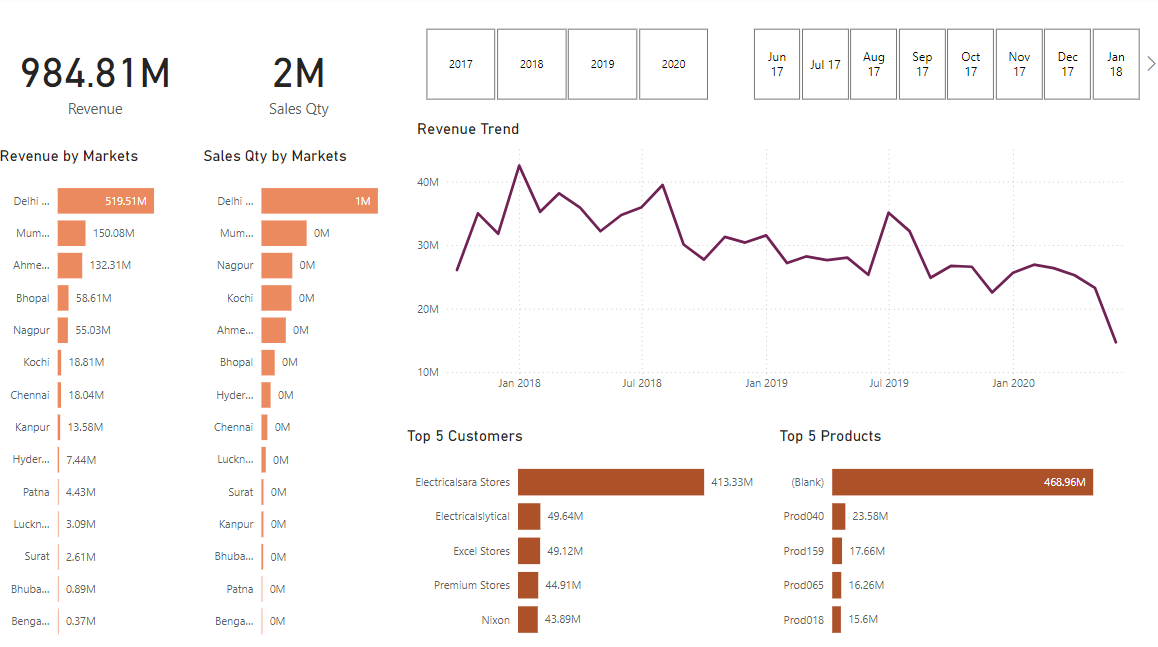

This screenshot's page, from the dashboard's own definition file:
{"tool":"powerbi","page":{"name":"Page 1","canvas":[1280,720],"ordinal":0},"visuals":[{"type":"card","fields":{"Values":["BaseMeasures.Revenue"]},"box":[0,0,220,180],"z":0},{"type":"card","fields":{"Values":["BaseMeasures.Sales Qty"]},"box":[223.7,0,220,180],"z":1000},{"type":"barChart","title":"Revenue by Markets","fields":{"Y":["BaseMeasures.Revenue"],"Category":["sales markets.markets_name"]},"box":[0,164.7,223.7,555.7],"z":2000},{"type":"barChart","title":"Sales Qty by Markets","fields":{"Y":["BaseMeasures.Sales Qty"],"Category":["sales markets.markets_name"]},"box":[223.7,164.7,223.7,555.7],"z":2001},{"type":"slicer","fields":{"Values":["sales date.year"]},"box":[447.3,28.8,359.5,91.9],"z":2002},{"type":"slicer","fields":{"Values":["sales date.cy_date"]},"box":[806.9,28.8,473.4,91.9],"z":2003},{"type":"barChart","title":"Top 5 Customers","fields":{"Y":["BaseMeasures.Revenue"],"Category":["sales customers.custmer_name"]},"box":[447.3,472,396.6,248.4],"z":2004},{"type":"barChart","title":"Top 5 Products","fields":{"Y":["BaseMeasures.Revenue"],"Category":["sales products.product_code"]},"box":[856.3,472,403.4,248.4],"z":2005},{"type":"lineChart","title":"Revenue Trend","fields":{"Y":["BaseMeasures.Revenue"],"Category":["sales date.cy_date.Variation.Date Hierarchy.Year","sales date.cy_date.Variation.Date Hierarchy.Month"]},"box":[458.3,135.8,801.4,307.4],"z":2006}]}

Visuals, with their boxes in screenshot pixels (x1, y1, x2, y2), scaled from the page's 1280x720 canvas onto the 1158x647 screenshot:
card - BaseMeasures.Revenue: [0,0,199,162]
card - BaseMeasures.Sales Qty: [202,0,401,162]
"Revenue by Markets" barChart: [0,148,202,646]
"Sales Qty by Markets" barChart: [202,148,405,646]
slicer - sales date.year: [405,26,730,108]
slicer - sales date.cy_date: [730,26,1157,108]
"Top 5 Customers" barChart: [405,424,763,646]
"Top 5 Products" barChart: [775,424,1140,646]
"Revenue Trend" lineChart: [415,122,1140,398]
